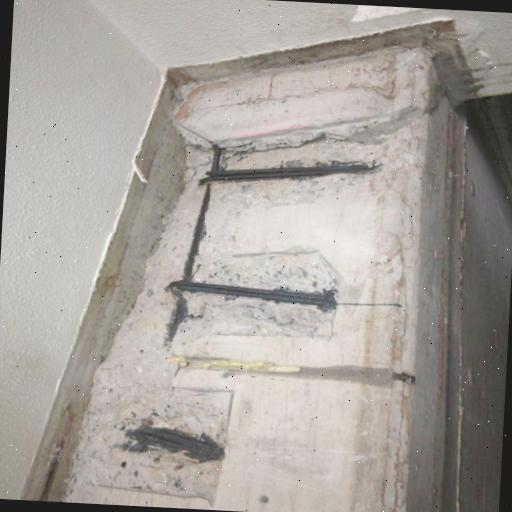spalling: (182, 136, 392, 348), (78, 382, 226, 490)
